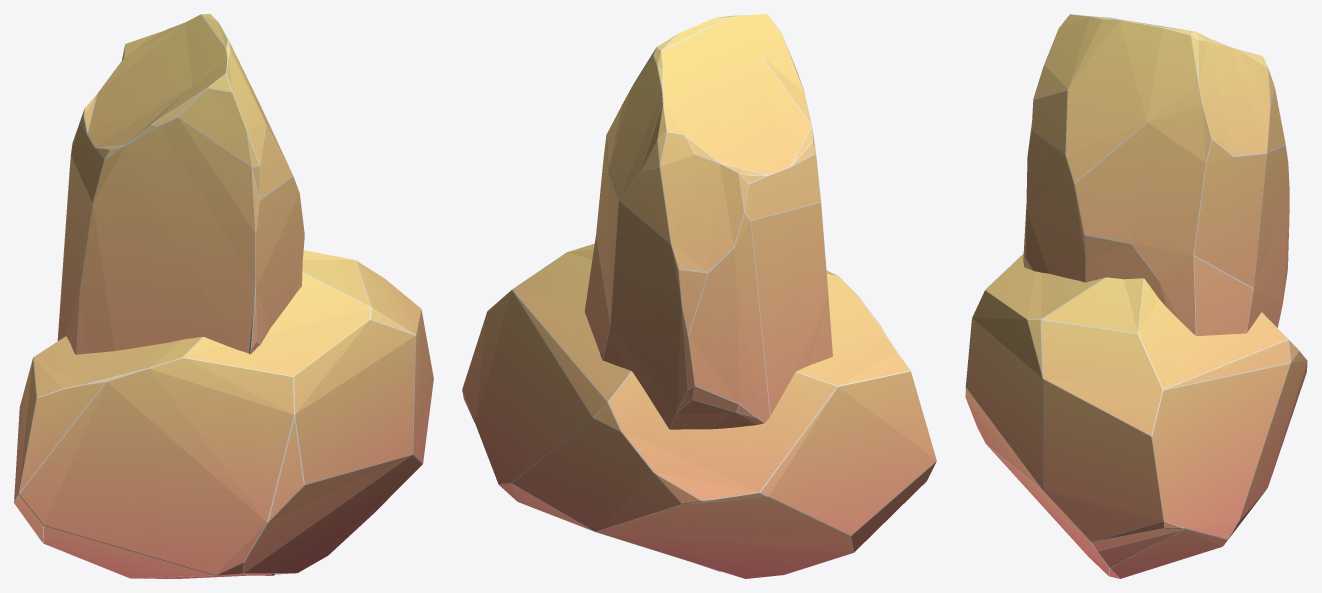
Rendered from crystals1.fbx.
3 renders of one model, left to right at view 1: azimuth 30°, elevation 25°; view 2: azimuth 150°, elevation 25°; view 3: azimuth 270°, elevation 25°, orthographic. The views are drawn at different scales.
Parts seen in each view (by area): view 1: crystal2, crystal1; view 2: crystal2, crystal1; view 3: crystal2, crystal1.
Boxes of the visible parts, x1,y1,x2,y2 form: crystal2: (14,250,433,578); crystal1: (57,14,304,354); crystal2: (462,243,936,578); crystal1: (584,14,832,429); crystal2: (965,254,1307,578); crystal1: (1023,14,1289,336).
Bounding box in the file's own units: 274 × 317 × 190.
